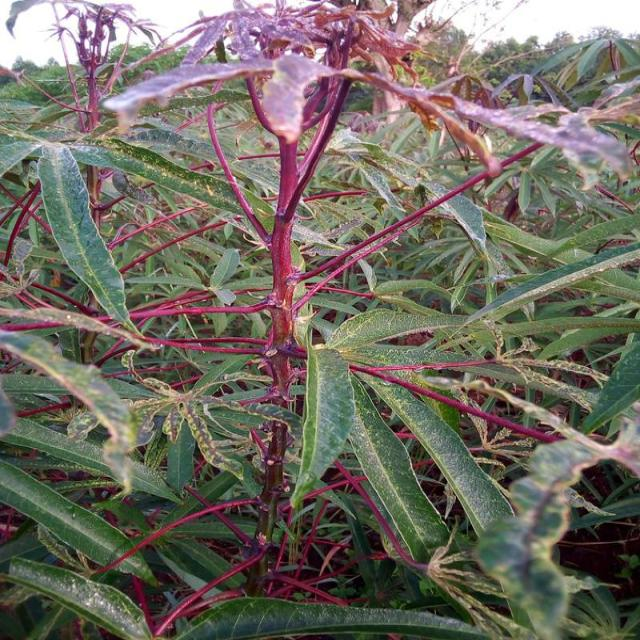cassava leaf: (0, 6, 638, 638), (36, 142, 130, 325), (288, 340, 354, 509)
